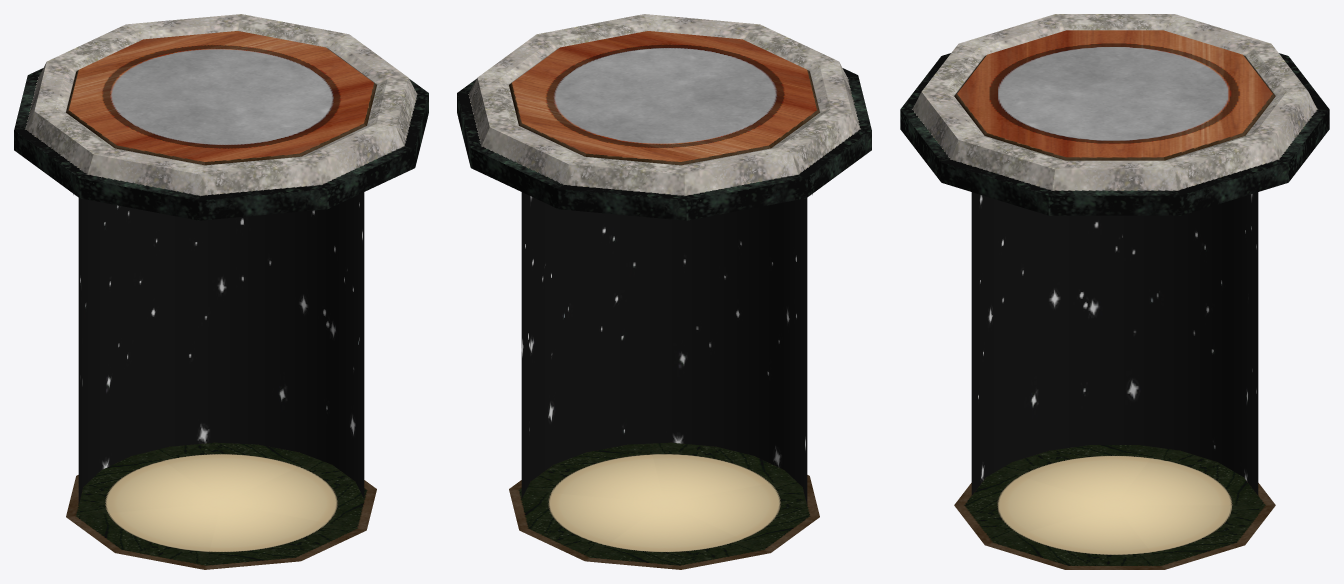
The model's file is Capsule_01_Art.fbx.
3 renders of one model, left to right at view 1: azimuth 30°, elevation 25°; view 2: azimuth 150°, elevation 25°; view 3: azimuth 270°, elevation 25°, orthographic.
Visible parts, largest first — view 1: Capsule_01; view 2: Capsule_01; view 3: Capsule_01.
Boxes of the visible parts, <box> form: Capsule_01: <box>14,14,428,569</box>; Capsule_01: <box>457,14,871,569</box>; Capsule_01: <box>900,14,1329,569</box>.
Bounding box in the file's own units: 300 × 335 × 315.
